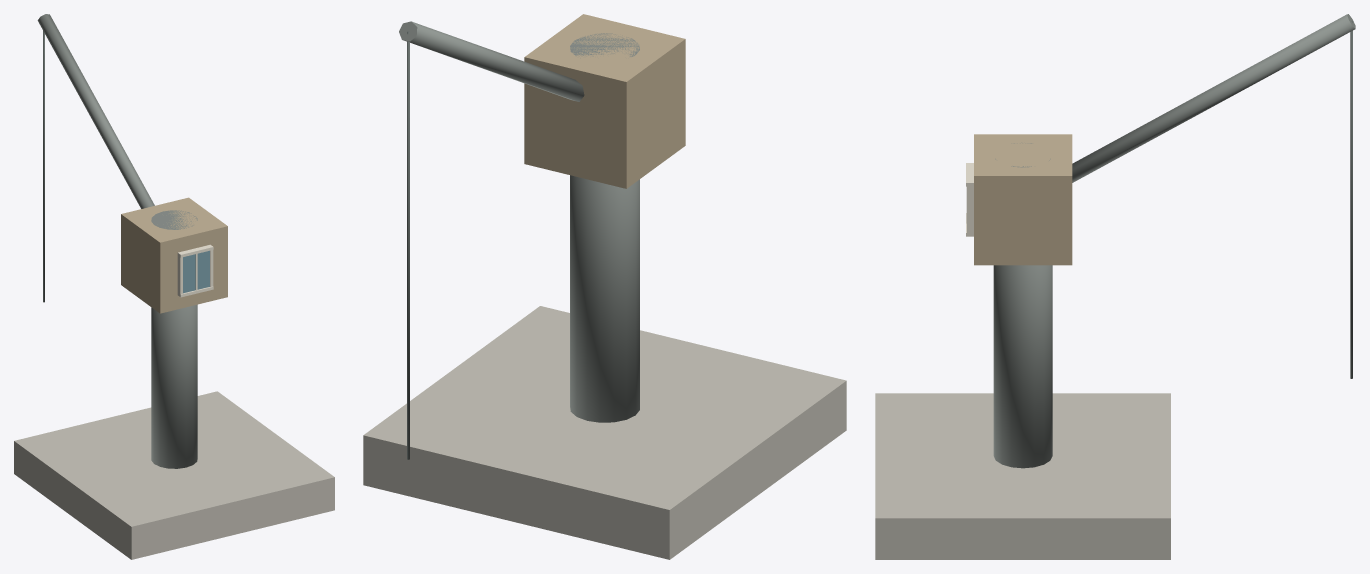
File: tyne-crane_lod0.glb
3 views of the same model, side by side, from view 1: azimuth 30°, elevation 25°; view 2: azimuth 150°, elevation 25°; view 3: azimuth 270°, elevation 25° (orthographic). The views are drawn at different scales.
Visible parts, largest first — view 1: RF_HarbourBase, RF_CraneCab, RF_CraneTower, RF_CraneBoom, RF_Window, RF_CraneCable; view 2: RF_HarbourBase, RF_CraneCab, RF_CraneTower, RF_CraneBoom, RF_CraneCable; view 3: RF_HarbourBase, RF_CraneCab, RF_CraneTower, RF_CraneBoom, RF_CraneCable.
Boxes of the visible parts, x1=… form: RF_HarbourBase: x1=14, y1=391, x2=334, y2=559; RF_CraneCab: x1=121, y1=197, x2=227, y2=313; RF_CraneTower: x1=151, y1=210, x2=197, y2=468; RF_CraneBoom: x1=37, y1=14, x2=154, y2=208; RF_Window: x1=183, y1=250, x2=209, y2=293; RF_CraneCable: x1=43, y1=31, x2=44, y2=302; RF_HarbourBase: x1=363, y1=306, x2=846, y2=559; RF_CraneCab: x1=524, y1=14, x2=685, y2=188; RF_CraneTower: x1=570, y1=33, x2=639, y2=422; RF_CraneBoom: x1=399, y1=21, x2=584, y2=101; RF_CraneCable: x1=407, y1=31, x2=409, y2=459; RF_HarbourBase: x1=875, y1=393, x2=1170, y2=559; RF_CraneCab: x1=974, y1=134, x2=1072, y2=265; RF_CraneTower: x1=993, y1=142, x2=1052, y2=468; RF_CraneBoom: x1=1072, y1=14, x2=1355, y2=182; RF_CraneCable: x1=1350, y1=21, x2=1352, y2=378.
Size of the model in its own units: 9 by 16.23 by 14.63.
